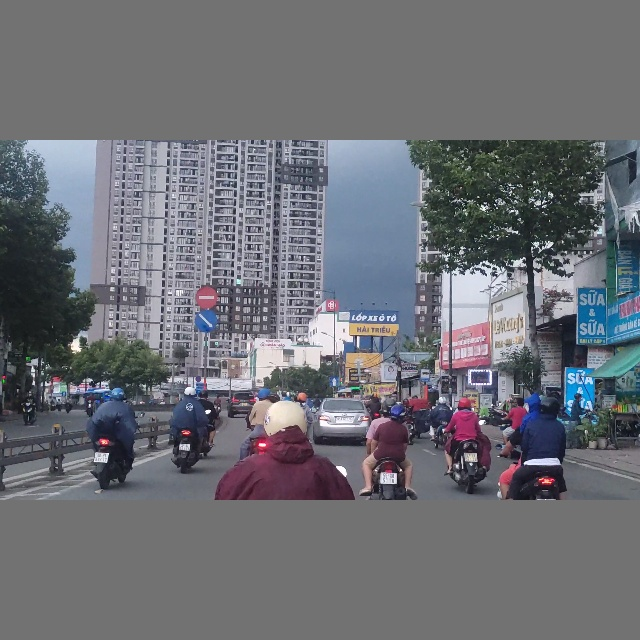I.407a: (329, 377, 339, 386)
I.434a: (420, 368, 430, 382)
P.102: (194, 285, 220, 309)
R.302a: (195, 310, 220, 332)
